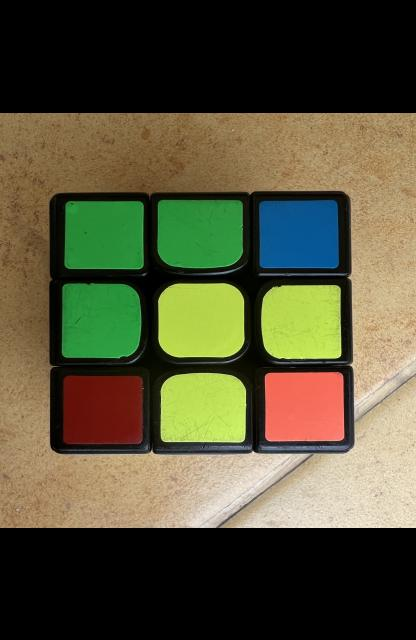Blue: (259, 199, 339, 267)
Green: (62, 282, 142, 357), (157, 199, 243, 267), (64, 200, 144, 268)
Orange: (264, 371, 344, 440)
Red: (63, 374, 143, 444)
Yellow: (158, 282, 244, 357), (260, 284, 342, 358), (160, 372, 247, 441)
